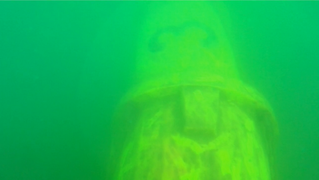3: (147, 22, 218, 53)
pipe: (111, 1, 280, 179)
